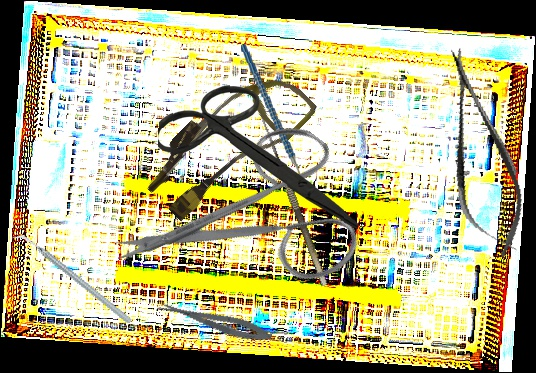Cannula: (135, 50, 320, 236)
Chopper: (11, 204, 133, 353), (240, 39, 319, 199)
Hook Surgical: (246, 104, 329, 291)
Iris Scissors: (106, 76, 398, 373), (156, 84, 361, 231)
Micro Scissor: (427, 40, 536, 265), (155, 294, 275, 347)
